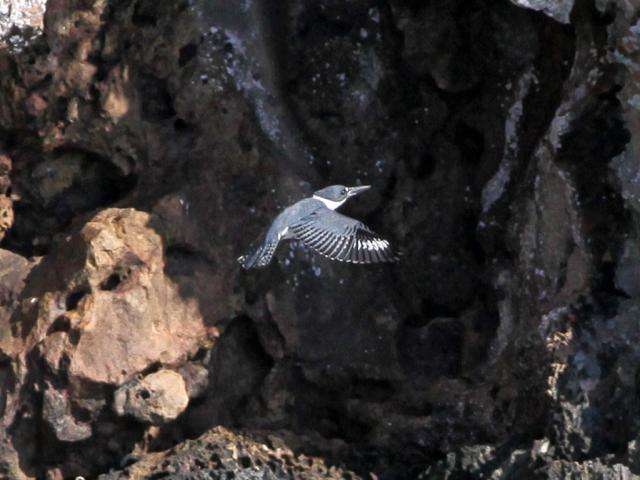Bird: (236, 176, 409, 274)
